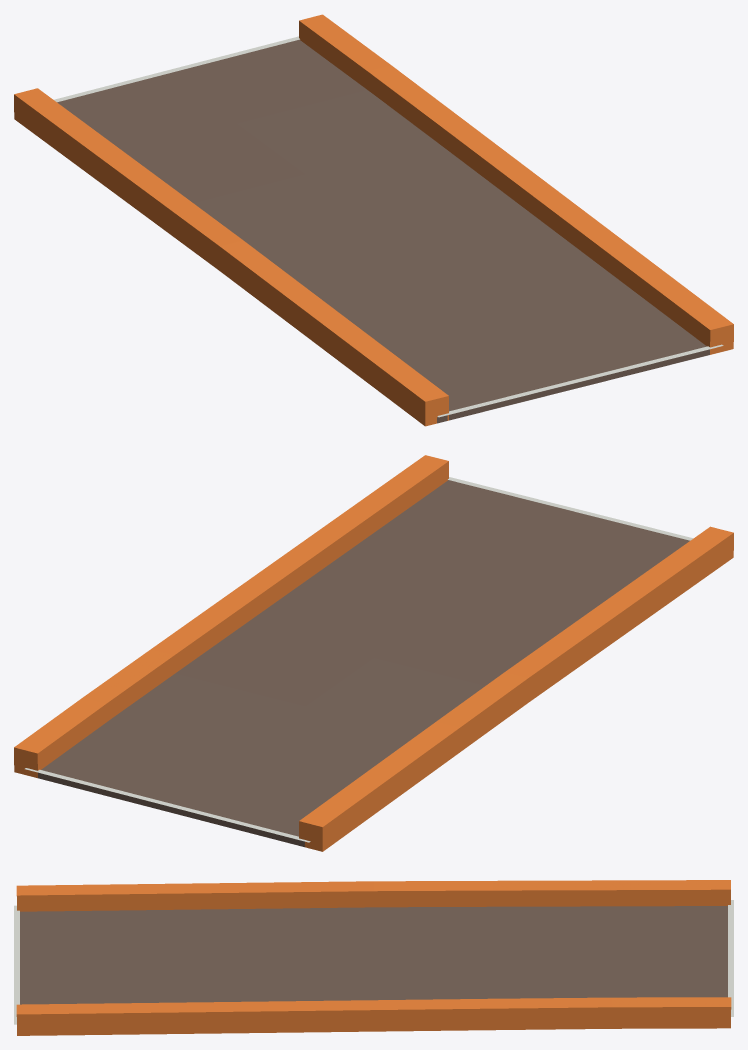
Rendered from SM_MP_Film_B_5_2.fbx.
3 views of the same model, one above another, from view 1: azimuth 30°, elevation 25°; view 2: azimuth 150°, elevation 25°; view 3: azimuth 270°, elevation 25° (orthographic). The views are drawn at different scales.
Visible parts, largest first — view 1: SM_MP_Film_B_5_2; view 2: SM_MP_Film_B_5_2; view 3: SM_MP_Film_B_5_2.
Boxes of the visible parts, box(x1,y1,x2,y2) form: SM_MP_Film_B_5_2: box(14, 14, 733, 426); SM_MP_Film_B_5_2: box(14, 455, 733, 851); SM_MP_Film_B_5_2: box(14, 880, 733, 1035).
Size of what is drawn, in the model's own units: 260 by 605 by 28.84.
